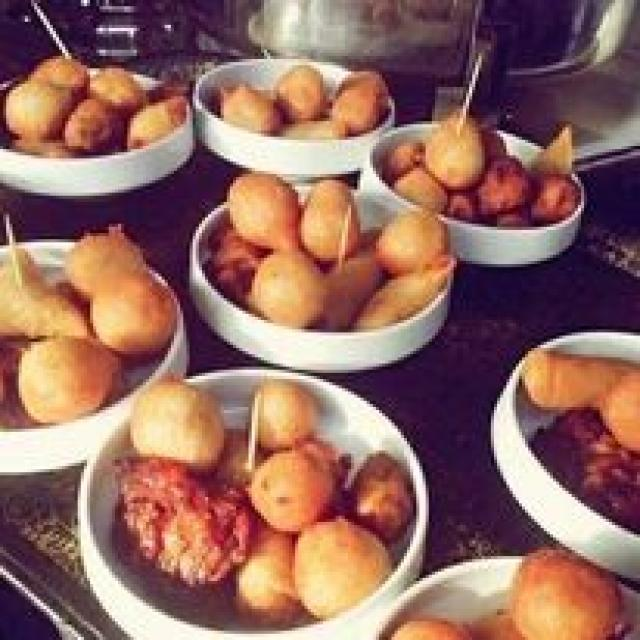Samosa: (354, 258, 454, 326), (124, 96, 180, 140), (534, 118, 572, 174)
Spring Rolls: (214, 423, 292, 615), (516, 332, 637, 438), (326, 211, 376, 326), (270, 105, 351, 136), (392, 155, 441, 202)
